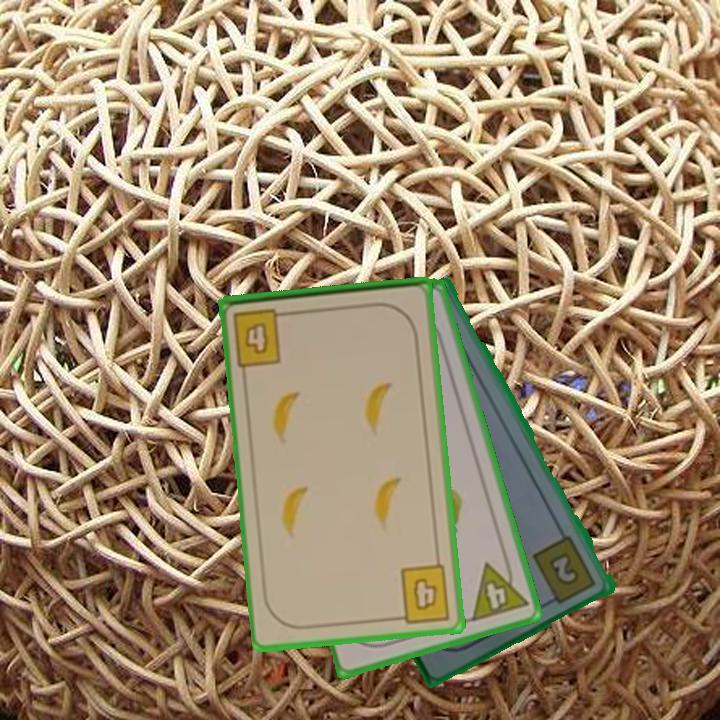2b: (529, 532, 600, 607)
4b: (230, 304, 294, 369), (391, 561, 453, 626)
4p: (467, 554, 531, 625)
